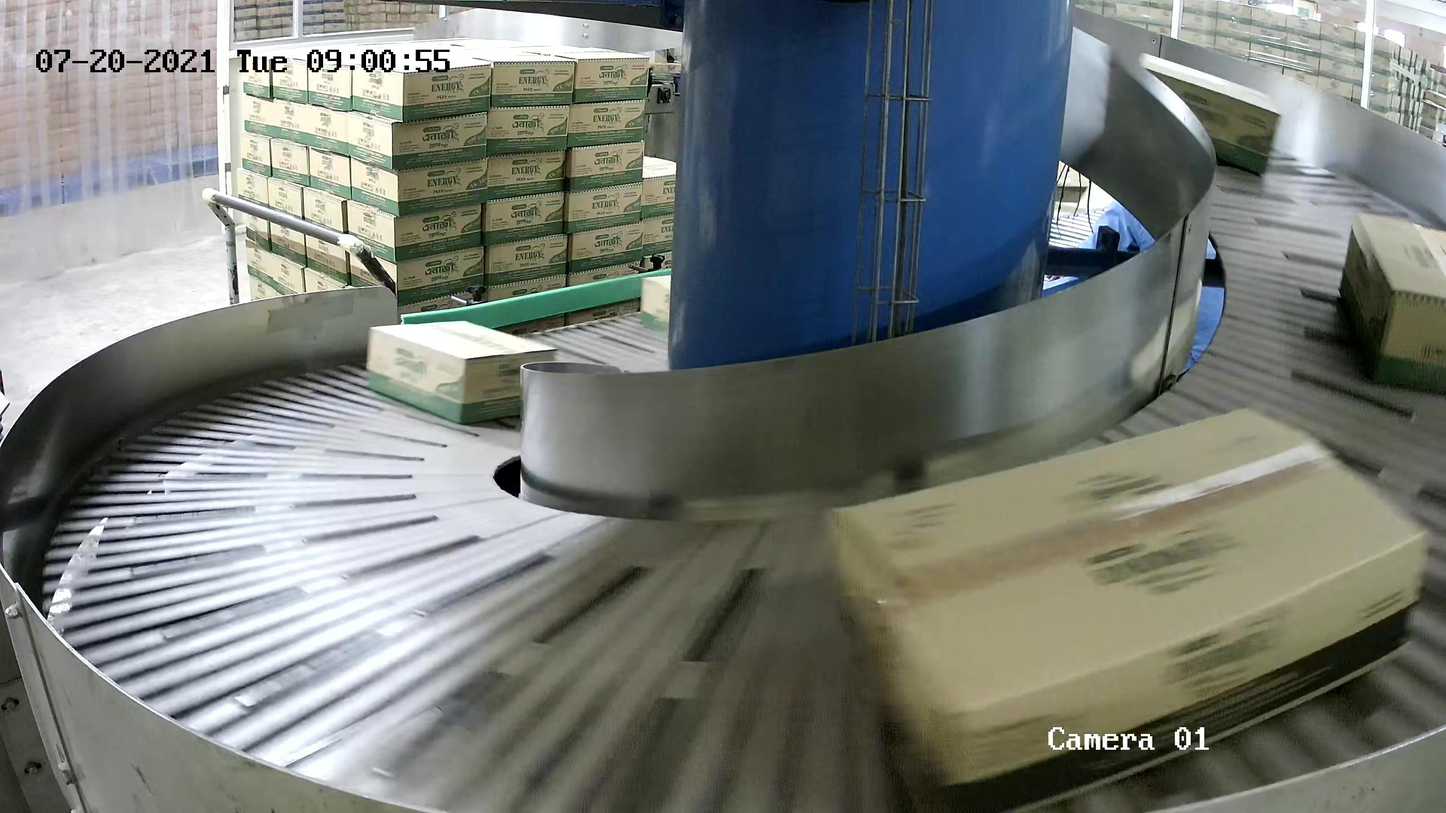Box: (827, 402, 1427, 813), (366, 319, 560, 426), (1337, 212, 1446, 398)
